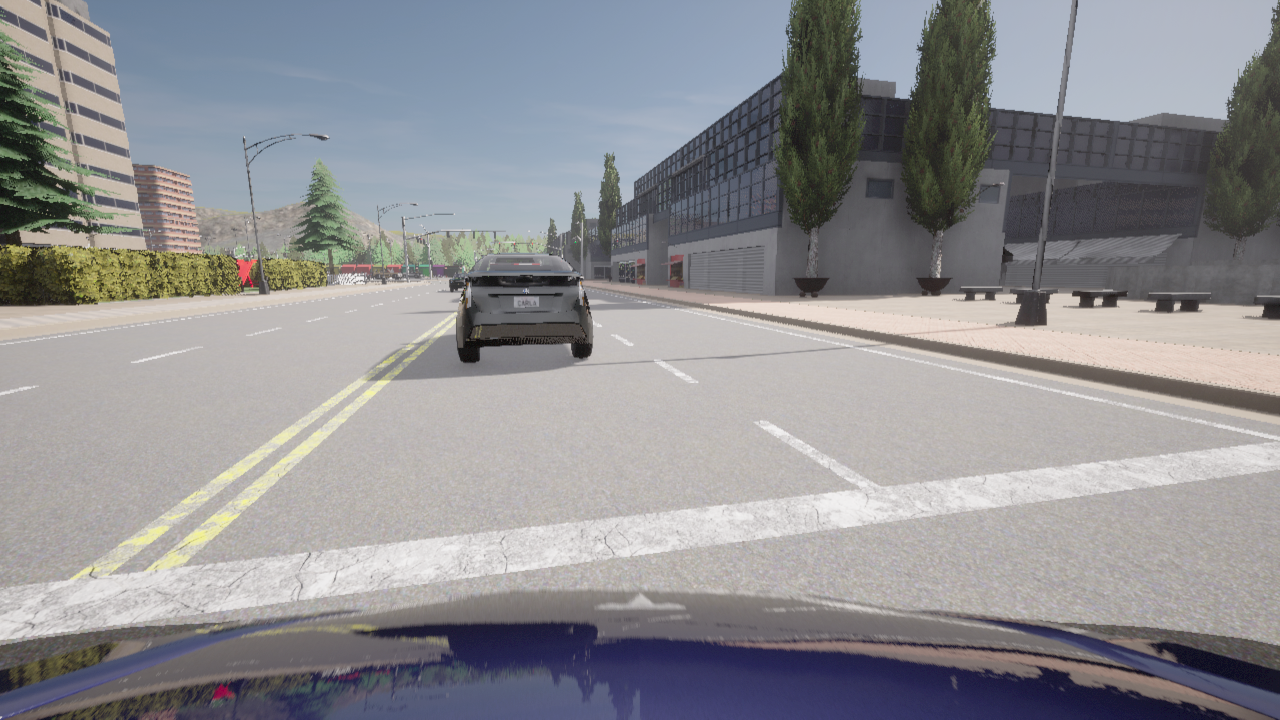cyclist: (0, 588, 1279, 719), (456, 253, 592, 362), (449, 272, 468, 291), (372, 269, 401, 278), (386, 269, 403, 278), (403, 270, 420, 277), (349, 272, 371, 277), (409, 274, 422, 277), (327, 272, 329, 274)
